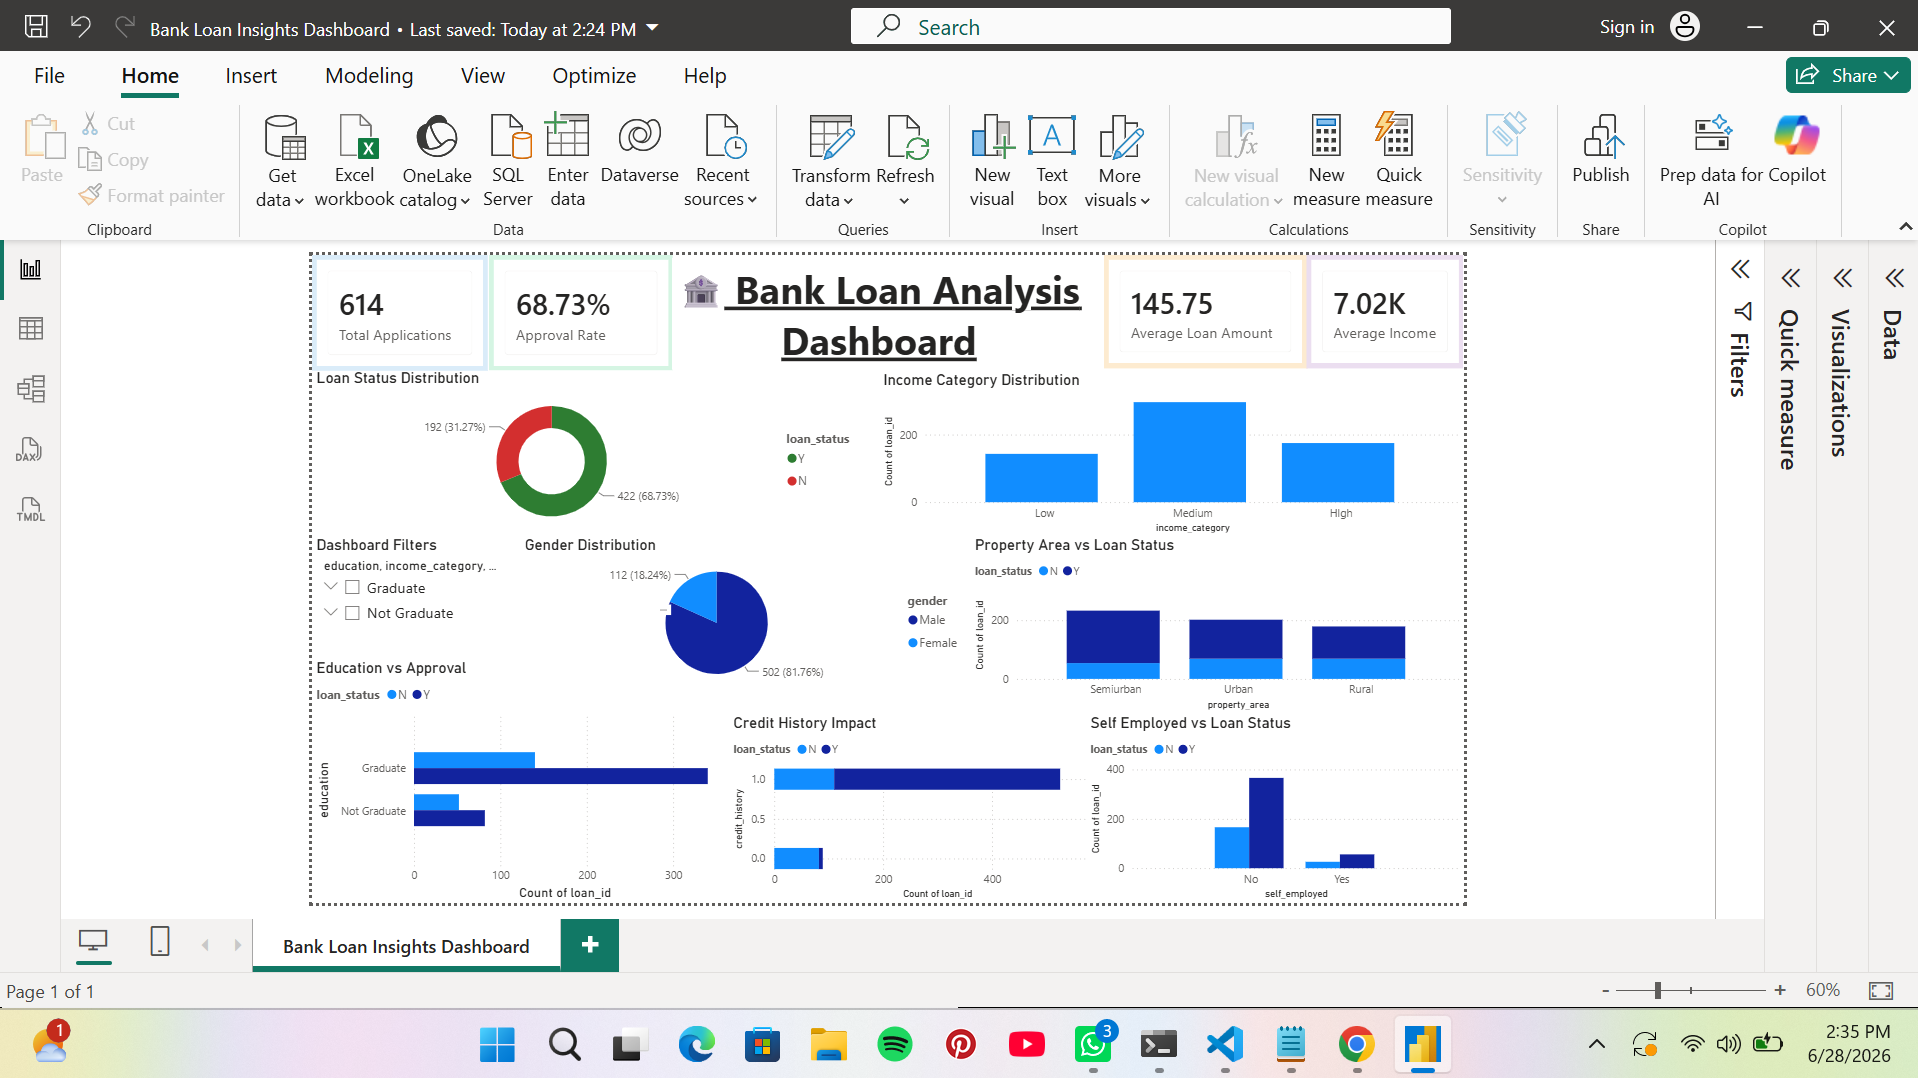

The dashboard page shown, as its layout file describes it:
{"tool":"powerbi","page":{"name":"Bank Loan Insights Dashboard","canvas":[1280,720],"ordinal":0},"visuals":[{"type":"donutChart","title":"Loan Status Distribution","fields":{"Category":["bank_loan_data.loan_status"],"Y":["CountNonNull(bank_loan_data.loan_id)"]},"box":[0,126.7,620,185],"z":0},{"type":"columnChart","title":"Property Area vs Loan Status","fields":{"Category":["bank_loan_data.property_area"],"Series":["bank_loan_data.loan_status"],"Y":["CountNonNull(bank_loan_data.loan_id)"]},"box":[732,312,548,198],"z":1000},{"type":"clusteredBarChart","title":"Education vs Approval","fields":{"Category":["bank_loan_data.education"],"Series":["bank_loan_data.loan_status"],"Y":["CountNonNull(bank_loan_data.loan_id)"]},"box":[0,448,464,272],"z":2000},{"type":"pieChart","title":"Gender Distribution","fields":{"Category":["bank_loan_data.gender"],"Y":["CountNonNull(bank_loan_data.loan_id)"]},"box":[232,312,500,174],"z":3000},{"type":"barChart","title":"Credit History Impact","fields":{"Category":["bank_loan_data.credit_history"],"Series":["bank_loan_data.loan_status"],"Y":["CountNonNull(bank_loan_data.loan_id)"]},"box":[464,510,428,210],"z":4000},{"type":"clusteredColumnChart","title":"Self Employed vs Loan Status","fields":{"Category":["bank_loan_data.self_employed"],"Series":["bank_loan_data.loan_status"],"Y":["CountNonNull(bank_loan_data.loan_id)"]},"box":[860,510,420,210],"z":5000},{"type":"slicer","title":"Dashboard Filters","fields":{"Values":["bank_loan_data.education","bank_loan_data.income_category","bank_loan_data.property_area","bank_loan_data.gender","bank_loan_data.loan_category"]},"box":[0,312,232,124],"z":6000},{"type":"cardVisual","fields":{"Data":["bank_loan_data.Approval Rate"]},"box":[196,0,204,128],"z":7000},{"type":"cardVisual","fields":{"Data":["bank_loan_data.Avg Loan"]},"box":[880,0,225.7,125.7],"z":8000},{"type":"cardVisual","fields":{"Data":["bank_loan_data.Avg Income"]},"box":[1105.7,0,174.3,125.7],"z":9000},{"type":"textbox","box":[334,388,66,12],"z":10000},{"type":"textbox","box":[400,4,460,124],"z":11000},{"type":"cardVisual","fields":{"Data":["CountNonNull(bank_loan_data.loan_id)"]},"box":[0,0,195,128.3],"z":12000},{"type":"clusteredColumnChart","title":"Income Category Distribution","fields":{"Category":["IncomeCategorySort.income_category"],"Y":["CountNonNull(bank_loan_data.loan_id)"]},"box":[630,127.5,650,185],"z":13000}]}

Visuals, with their boxes on the page's 1280x720 design canvas (x1, y1, x2, y2). These are canvas units, not pixel positions in the 1918x1078 screenshot, which may show the page scaled, cropped or inside an application window:
"Loan Status Distribution" donutChart: <region>0, 127, 620, 312</region>
"Property Area vs Loan Status" columnChart: <region>732, 312, 1280, 510</region>
"Education vs Approval" clusteredBarChart: <region>0, 448, 464, 720</region>
"Gender Distribution" pieChart: <region>232, 312, 732, 486</region>
"Credit History Impact" barChart: <region>464, 510, 892, 720</region>
"Self Employed vs Loan Status" clusteredColumnChart: <region>860, 510, 1280, 720</region>
"Dashboard Filters" slicer: <region>0, 312, 232, 436</region>
cardVisual - bank_loan_data.Approval Rate: <region>196, 0, 400, 128</region>
cardVisual - bank_loan_data.Avg Loan: <region>880, 0, 1106, 126</region>
cardVisual - bank_loan_data.Avg Income: <region>1106, 0, 1280, 126</region>
textbox: <region>334, 388, 400, 400</region>
textbox: <region>400, 4, 860, 128</region>
cardVisual - CountNonNull(bank_loan_data.loan_id): <region>0, 0, 195, 128</region>
"Income Category Distribution" clusteredColumnChart: <region>630, 128, 1280, 312</region>
